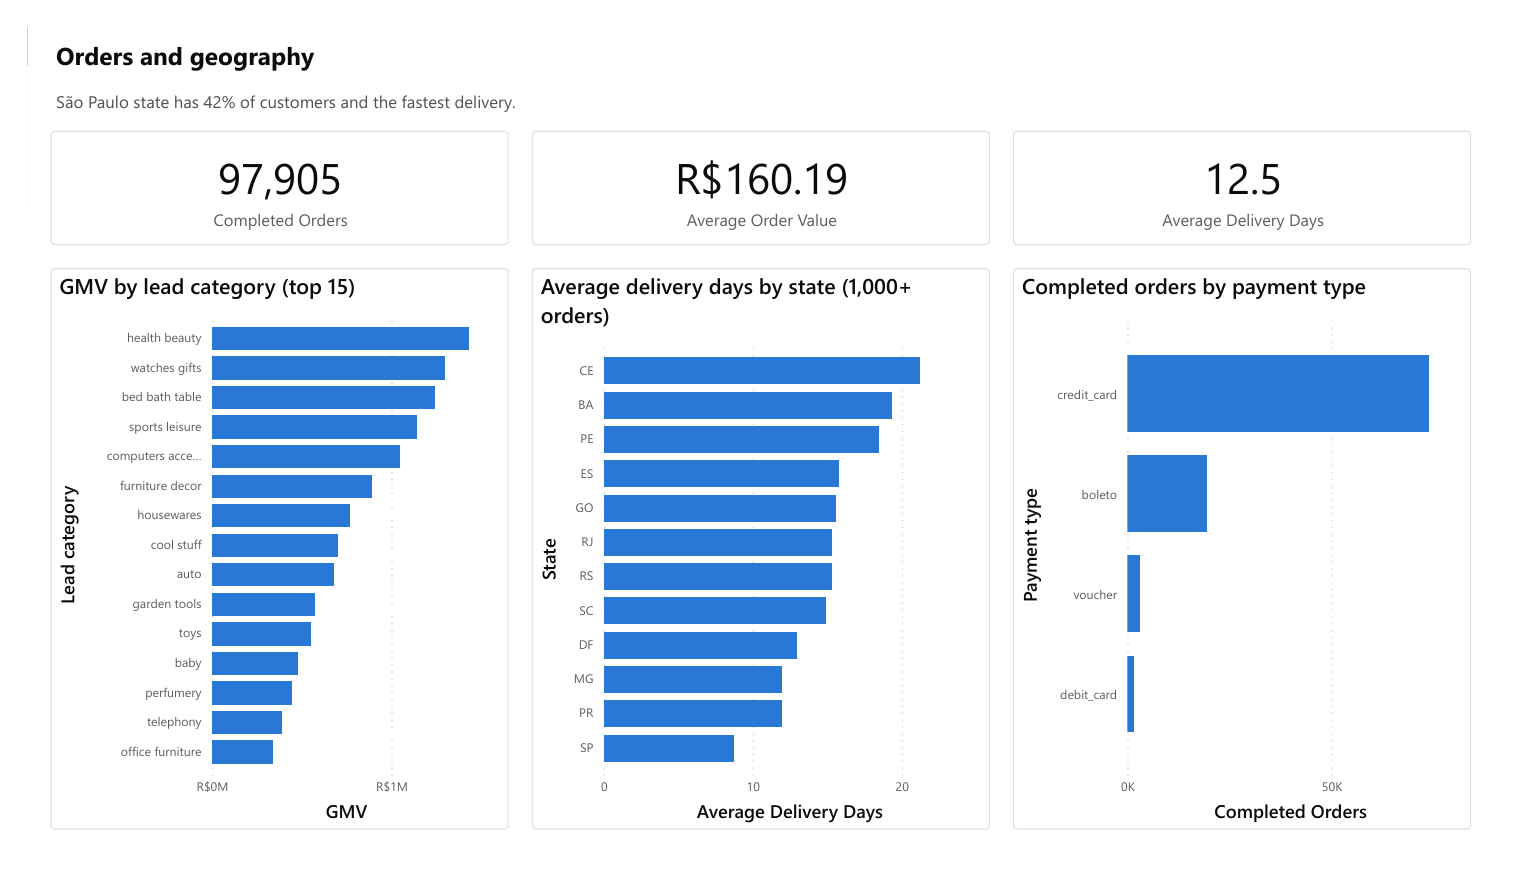

The page's visual inventory and layout, read from the dashboard file:
{"tool":"powerbi","page":{"name":"Orders and geography","canvas":[1280,720],"ordinal":1},"visuals":[{"type":"card","fields":{"Values":["_Measures.Completed Orders"]},"box":[20,90,400,100],"z":0},{"type":"card","fields":{"Values":["_Measures.Average Order Value"]},"box":[440,90,400,100],"z":1000},{"type":"card","fields":{"Values":["_Measures.Average Delivery Days"]},"box":[860,90,400,100],"z":2000},{"type":"barChart","title":"GMV by lead category (top 15)","fields":{"Y":["_Measures.GMV"],"Category":["Orders.lead_category"]},"box":[20,210,400,490],"z":3000},{"type":"barChart","title":"Average delivery days by state (1,000+ orders)","fields":{"Y":["_Measures.Average Delivery Days"],"Category":["Orders.customer_state"]},"box":[440,210,400,490],"z":4000},{"type":"barChart","title":"Completed orders by payment type","fields":{"Category":["Orders.payment_type"],"Y":["_Measures.Completed Orders"]},"box":[860,210,400,490],"z":5000},{"type":"textbox","box":[20,5,1240,45],"z":6000},{"type":"textbox","box":[20,50,1240,36],"z":7000}]}

Visuals, with their boxes in screenshot pixels (x1, y1, x2, y2), scaled from the page's 1280x720 canvas onto the 1522x880 screenshot:
card - _Measures.Completed Orders: 24, 110, 499, 232
card - _Measures.Average Order Value: 523, 110, 999, 232
card - _Measures.Average Delivery Days: 1023, 110, 1498, 232
"GMV by lead category (top 15)" barChart: 24, 257, 499, 856
"Average delivery days by state (1,000+ orders)" barChart: 523, 257, 999, 856
"Completed orders by payment type" barChart: 1023, 257, 1498, 856
textbox: 24, 6, 1498, 61
textbox: 24, 61, 1498, 105
